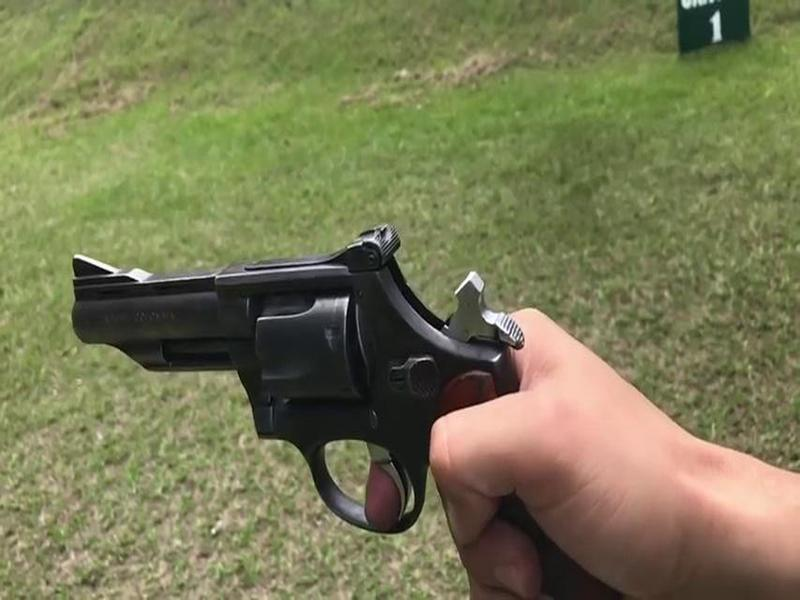Revolver: (57, 205, 541, 540)
